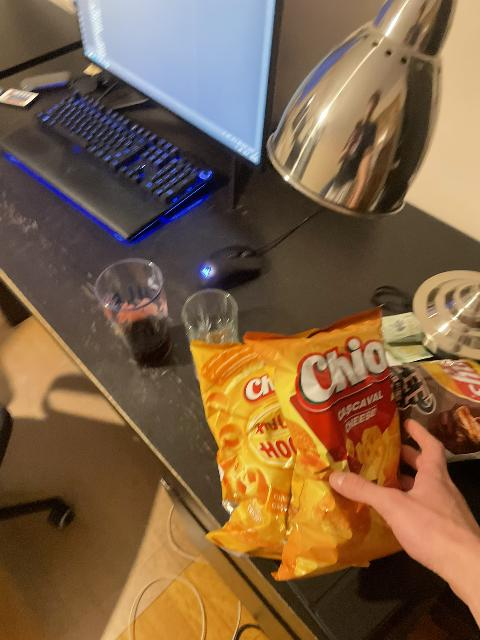Chio Cascaval 125g: (244, 301, 404, 587)
Chio Hula Hoops Cheese 70g: (195, 343, 369, 556)
